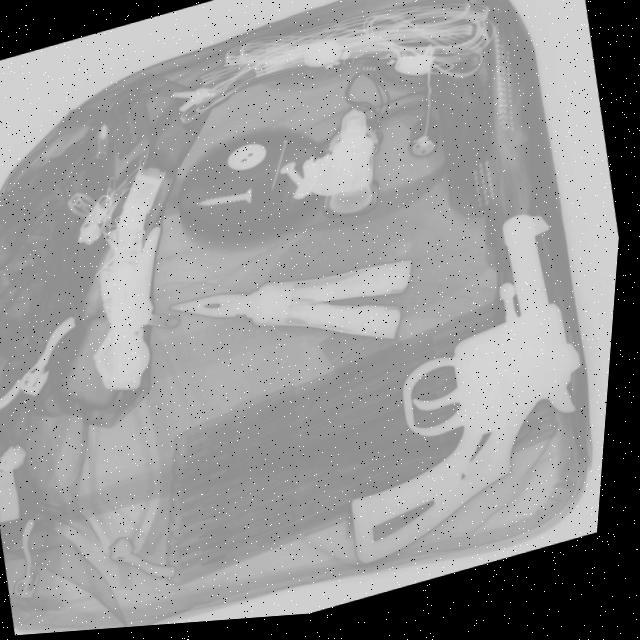knife: (163, 228, 414, 412)
pistol: (300, 208, 623, 580)
